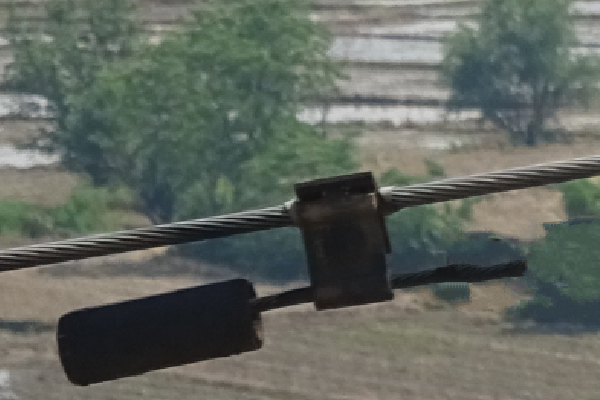damper_defect: (49, 164, 532, 388)
